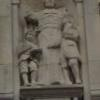Statue: (12, 7, 85, 100)
